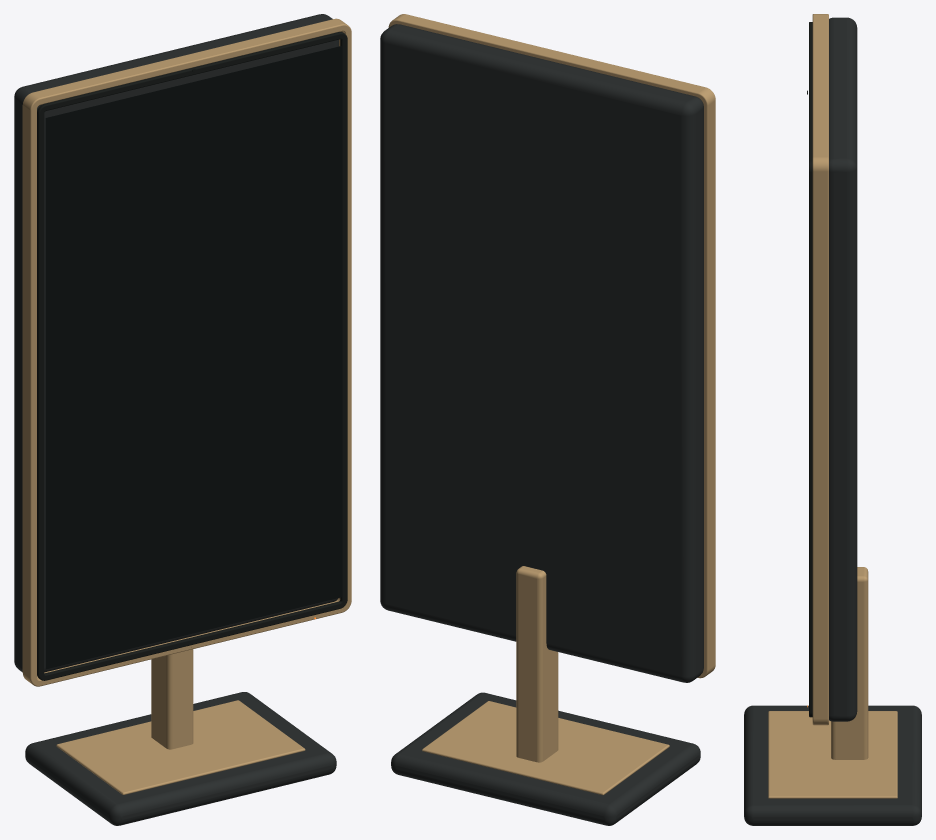
The model's file is avatar-portrait.glb.
3 renders of one model, left to right at view 1: azimuth 30°, elevation 25°; view 2: azimuth 150°, elevation 25°; view 3: azimuth 270°, elevation 25°, orthographic. The views are drawn at different scales.
Visible parts, largest first — view 1: Avatar_Screen, Avatar_ChampagneEdge, Avatar_InkBezel, Avatar_RearShell, Avatar_WeightedBase, Avatar_BaseInlay, Avatar_Mast; view 2: Avatar_RearShell, Avatar_WeightedBase, Avatar_ChampagneEdge, Avatar_BaseInlay, Avatar_Mast; view 3: Avatar_RearShell, Avatar_ChampagneEdge, Avatar_WeightedBase, Avatar_BaseInlay, Avatar_Mast, Avatar_InkBezel.
Part boxes in pixels (x1,y1,x2,y2): Avatar_Screen: [45, 46, 342, 669]; Avatar_ChampagneEdge: [22, 18, 351, 686]; Avatar_InkBezel: [37, 32, 347, 680]; Avatar_RearShell: [14, 14, 338, 672]; Avatar_WeightedBase: [25, 692, 336, 825]; Avatar_BaseInlay: [56, 700, 305, 794]; Avatar_Mast: [151, 649, 193, 749]; Avatar_RearShell: [380, 24, 703, 682]; Avatar_WeightedBase: [391, 692, 700, 825]; Avatar_ChampagneEdge: [388, 14, 715, 678]; Avatar_BaseInlay: [422, 701, 669, 795]; Avatar_Mast: [516, 566, 558, 762]; Avatar_RearShell: [829, 17, 857, 721]; Avatar_ChampagneEdge: [812, 14, 828, 725]; Avatar_WeightedBase: [744, 705, 921, 825]; Avatar_BaseInlay: [768, 711, 897, 798]; Avatar_Mast: [831, 567, 868, 759]; Avatar_InkBezel: [809, 22, 812, 717].
Size of the model in its own units: 0.966 by 2.06 by 0.48.
